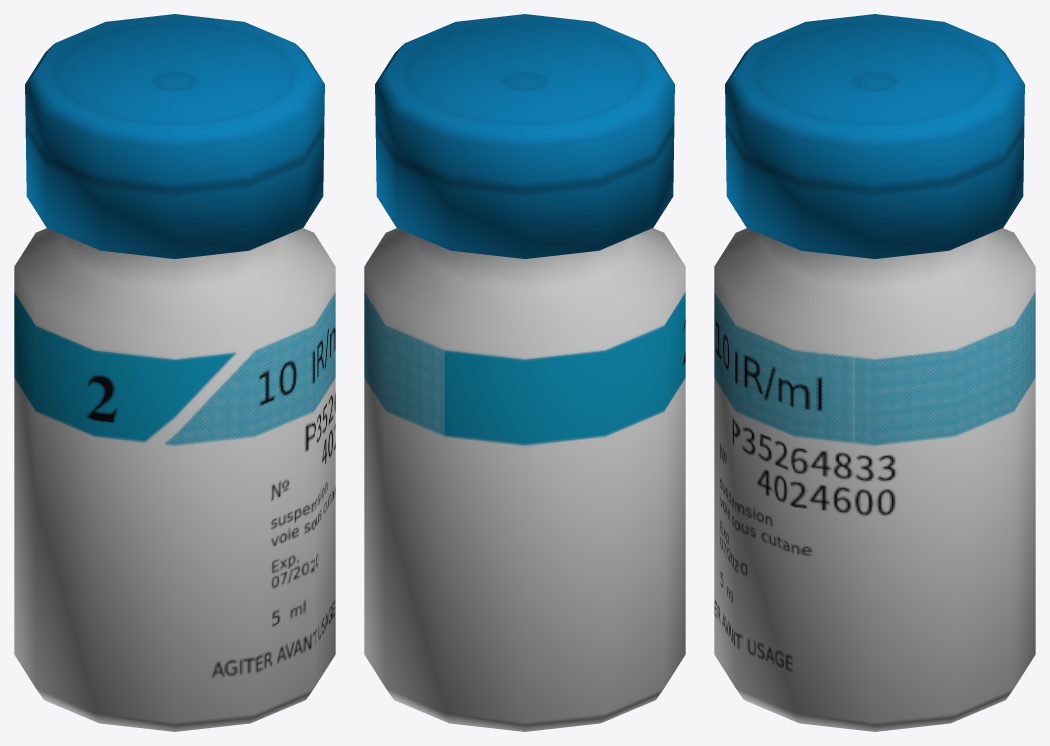
File: medicalBottle.fbx
The picture shows the model from 3 angles, left to right: view 1: azimuth 30°, elevation 25°; view 2: azimuth 150°, elevation 25°; view 3: azimuth 270°, elevation 25°; orthographic projection.
Visible parts, largest first — view 1: medicalBottle, medicalBottleCap; view 2: medicalBottle, medicalBottleCap; view 3: medicalBottle, medicalBottleCap.
Boxes of the visible parts, bbox=[...] form: medicalBottle: bbox=[14, 228, 335, 731]; medicalBottleCap: bbox=[25, 14, 324, 258]; medicalBottle: bbox=[364, 228, 685, 731]; medicalBottleCap: bbox=[375, 14, 674, 258]; medicalBottle: bbox=[714, 228, 1035, 731]; medicalBottleCap: bbox=[725, 14, 1024, 258].
Size of the model in its own units: 0.0367 by 0.075 by 0.0367.
